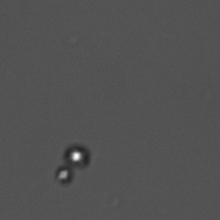Living Cell: (63, 143, 91, 168), (55, 164, 74, 188)
